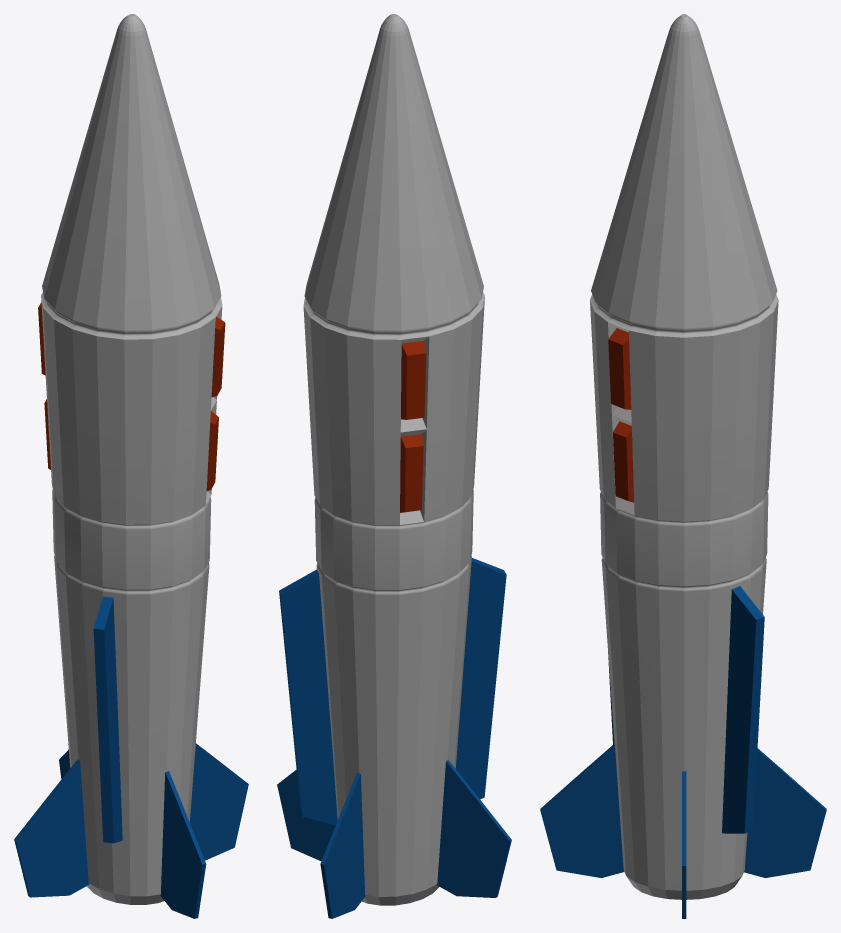
Rendered from missle.fbx.
The picture shows the model from 3 angles, left to right: view 1: azimuth 30°, elevation 25°; view 2: azimuth 150°, elevation 25°; view 3: azimuth 270°, elevation 25°; orthographic projection.
Visible parts, largest first — view 1: polySurface1, pCube7, pCube5, pCube6, pCube4, polySurface5, polySurface3; view 2: polySurface1, pCube9, pCube5, pCube7, pCube8, pCube6, polySurface4, polySurface2; view 3: polySurface1, pCube9, pCube4, pCube8, polySurface5, polySurface3, pCube6.
Boxes of the visible parts, left/top/right/bottom form: polySurface1: left=41, top=14, right=222, bottom=904; pCube7: left=14, top=759, right=89, bottom=897; pCube5: left=93, top=596, right=122, bottom=843; pCube6: left=189, top=743, right=248, bottom=860; pCube4: left=160, top=771, right=206, bottom=918; polySurface5: left=211, top=316, right=225, bottom=397; polySurface3: left=206, top=411, right=218, bottom=491; polySurface1: left=303, top=14, right=484, bottom=905; pCube9: left=279, top=569, right=337, bottom=825; pCube5: left=455, top=558, right=506, bottom=799; pCube7: left=437, top=759, right=511, bottom=897; pCube8: left=320, top=772, right=365, bottom=918; pCube6: left=277, top=769, right=335, bottom=860; polySurface4: left=401, top=340, right=426, bottom=419; polySurface2: left=400, top=434, right=423, bottom=512; polySurface1: left=590, top=14, right=778, bottom=899; pCube9: left=722, top=586, right=764, bottom=833; pCube4: left=540, top=744, right=623, bottom=877; pCube8: left=744, top=748, right=826, bottom=877; polySurface5: left=608, top=328, right=631, bottom=409; polySurface3: left=613, top=421, right=634, bottom=502; pCube6: left=682, top=771, right=686, bottom=918.
Size of the model in its own units: 17.56 by 62.64 by 18.78.
